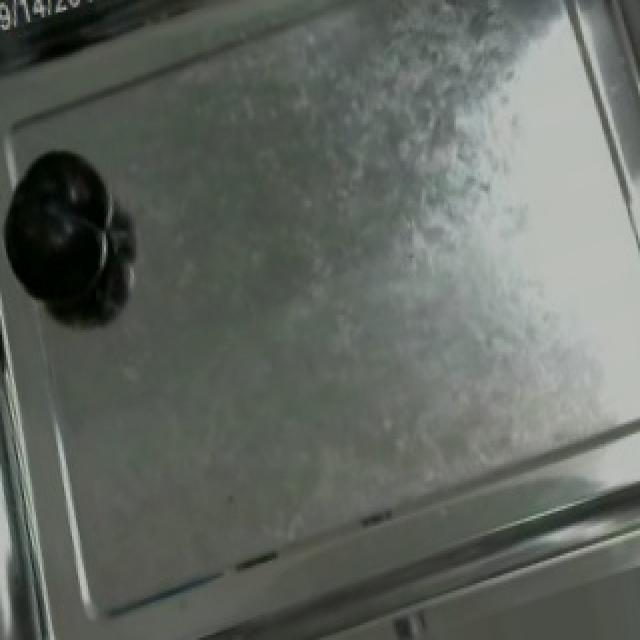Fruit: (0, 126, 134, 338)
